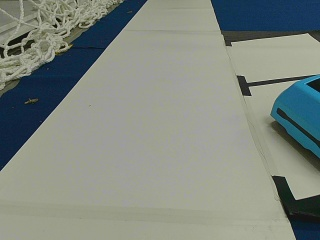car: (269, 73, 318, 156)
